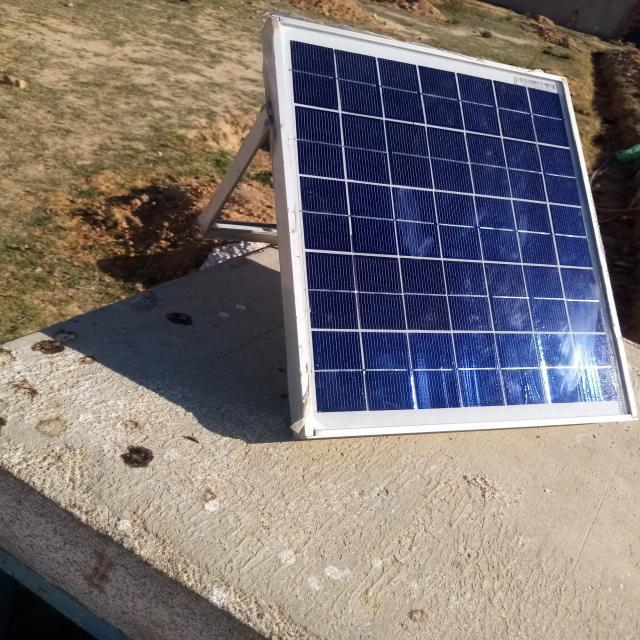Normal Solar Panel: (274, 17, 639, 435)
